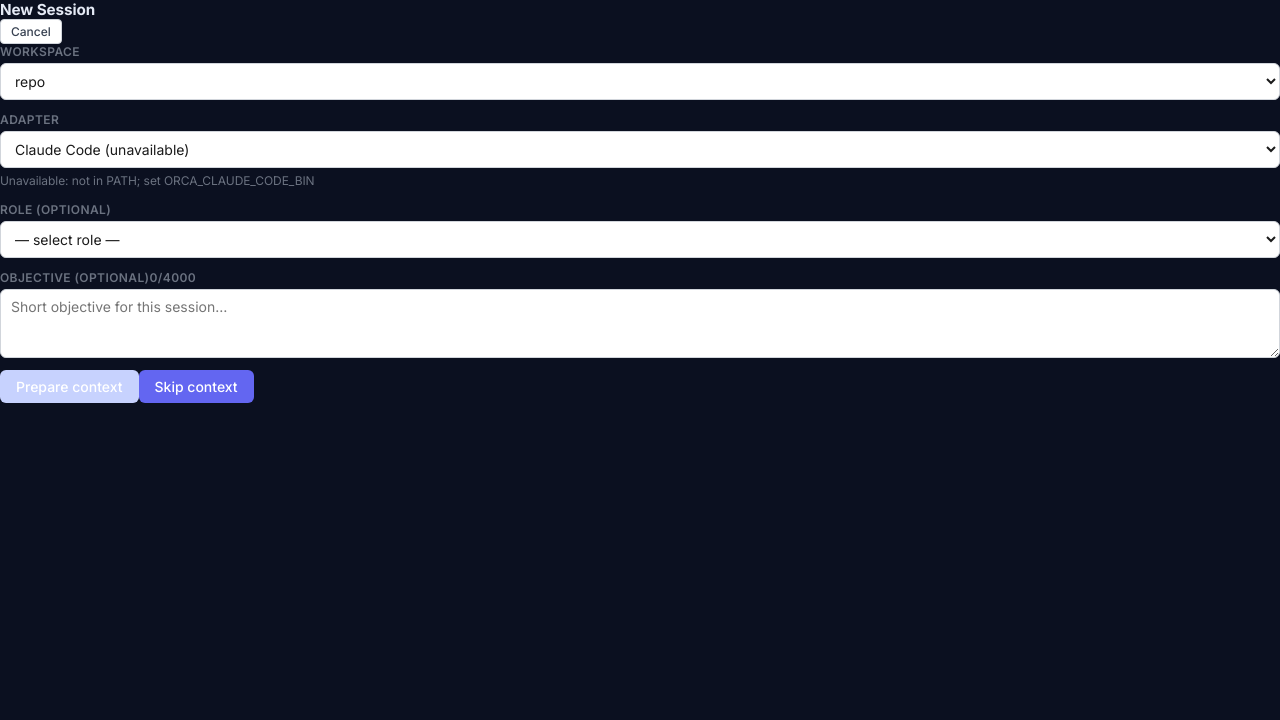
Test: CreateSessionDialog › shows unavailable labels and env override hints for all agent adapters
This screenshot has width=1280, height=720.
Select "Claude Code (unavailable)" in the dropdown with id "create-session-adapter" at [640, 150], box [0,131,1279,168]
expect the text "ORCA_CLAUDE_CODE_BIN" is shown: met, box [72,173,315,188]
Select "Codex (unavailable)" in the dropdown with id "create-session-adapter" at [640, 150], box [0,131,1279,168]
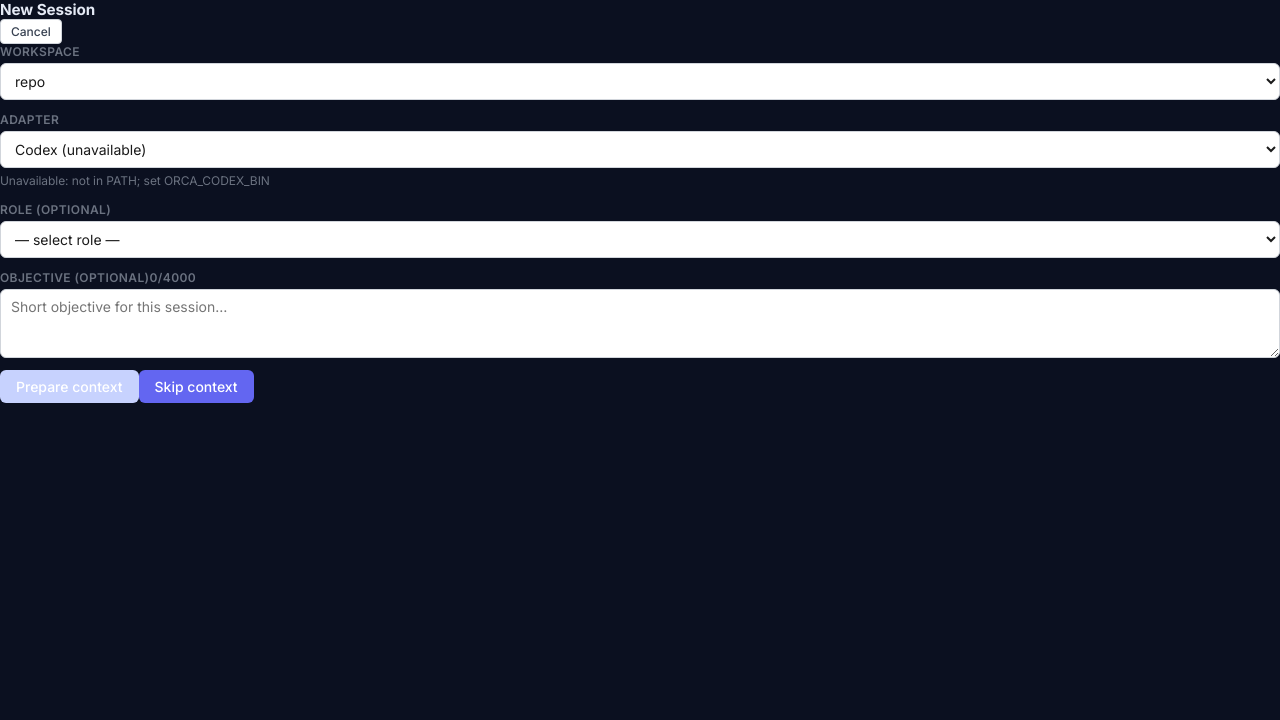
expect the text "ORCA_CODEX_BIN" is shown: met, box [72,173,270,188]
